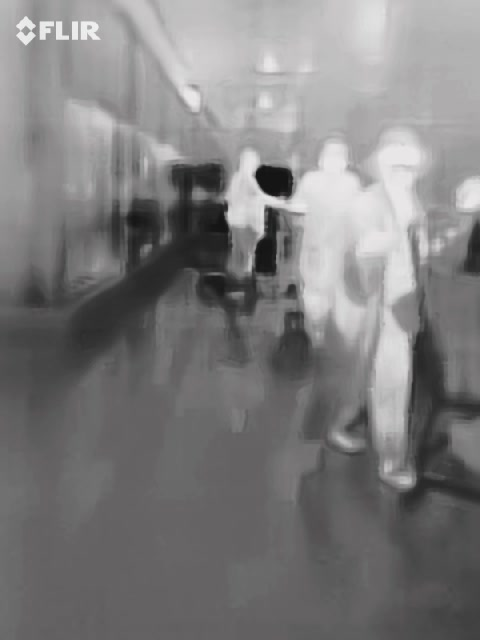head: (377, 130, 426, 191)
